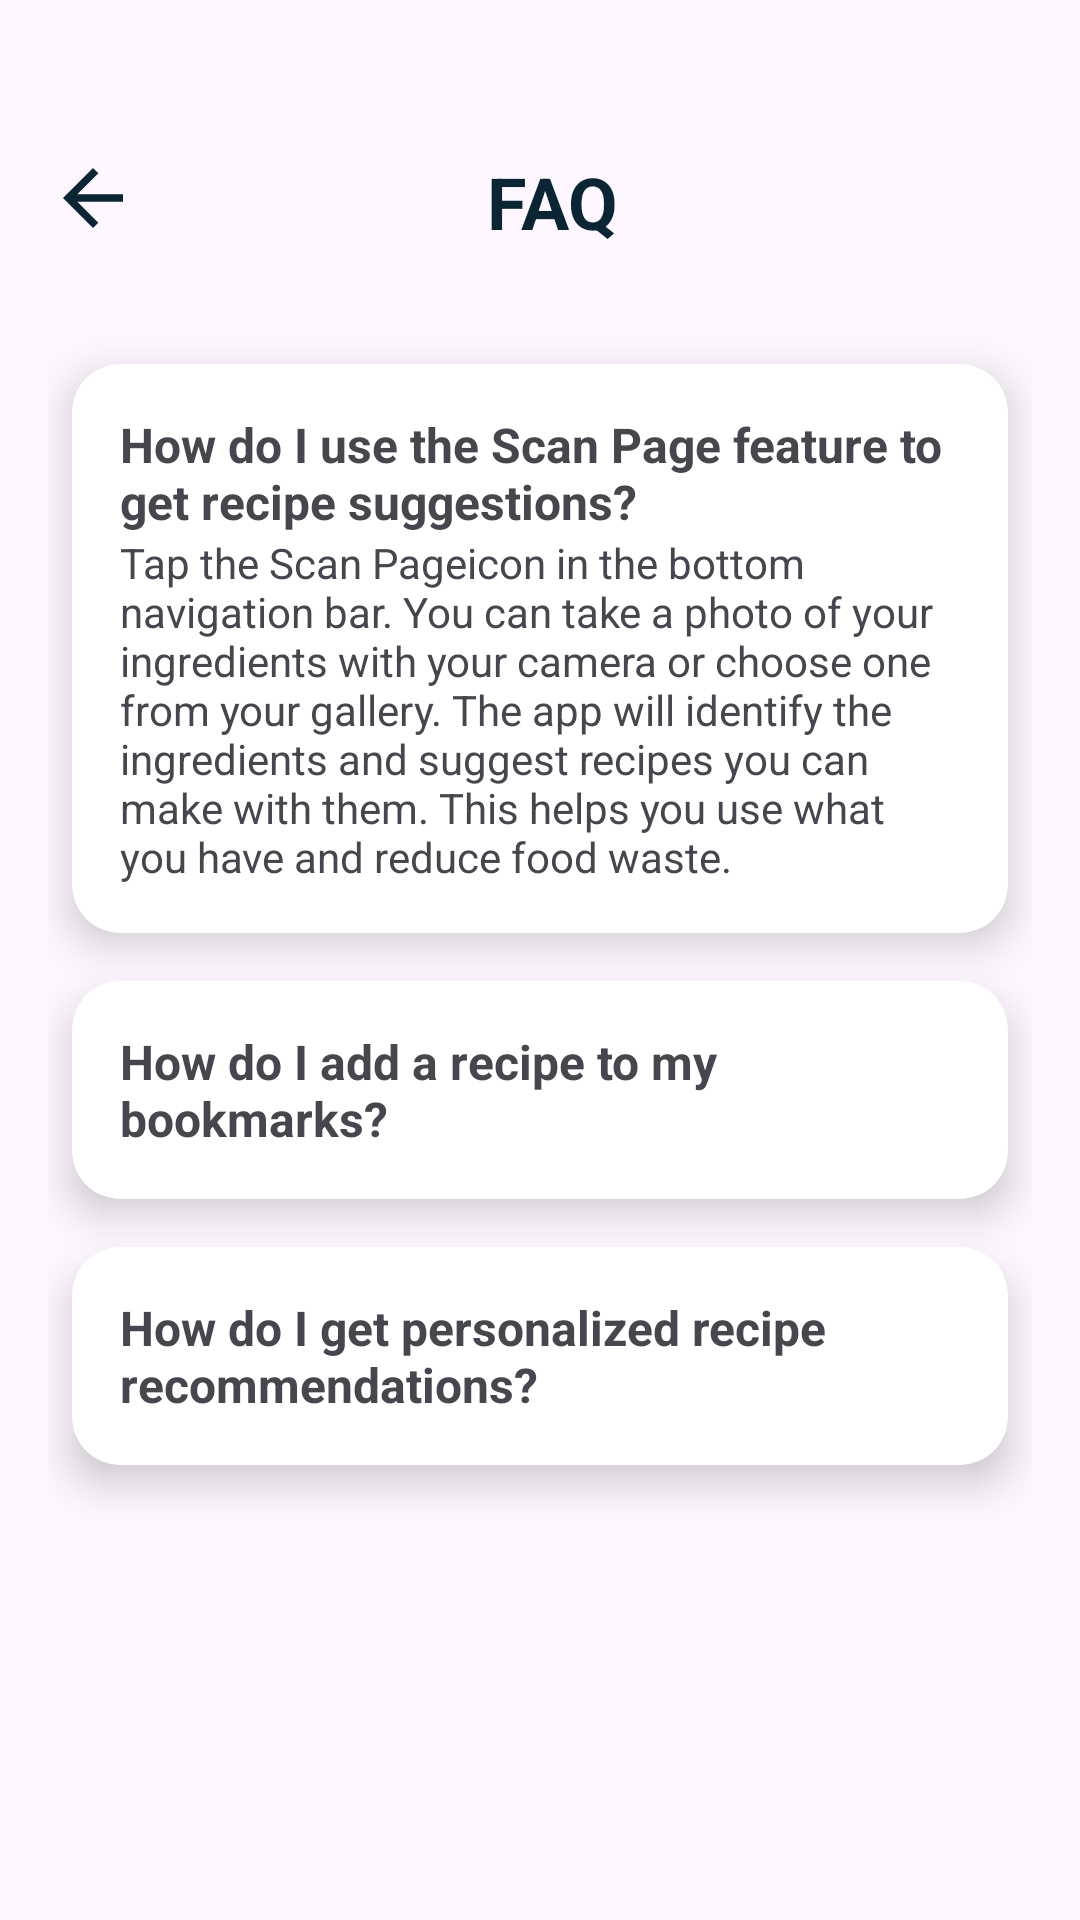

Screen size 1080 x 1920. Icon name, then its box in pixels as {"left": x1, "top": y1, "right": x2, "bottom": y2}:
arrow back: {"left": 63, "top": 168, "right": 123, "bottom": 228}
